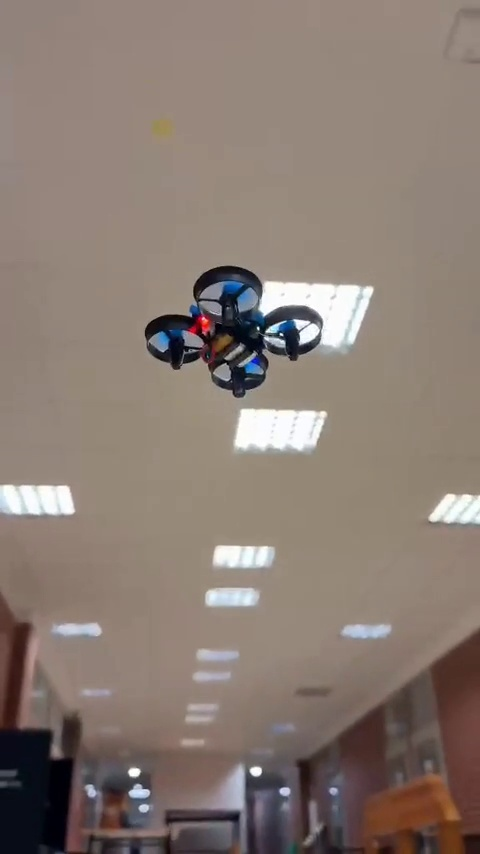drone: (144, 264, 324, 402)
